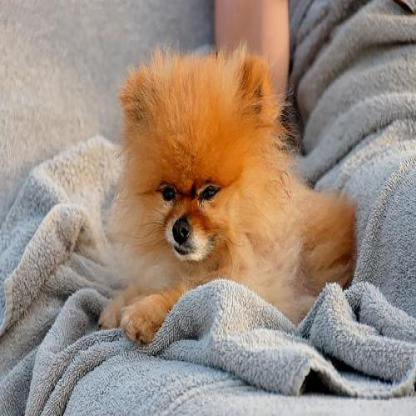Pomeranian: (96, 40, 354, 347)
